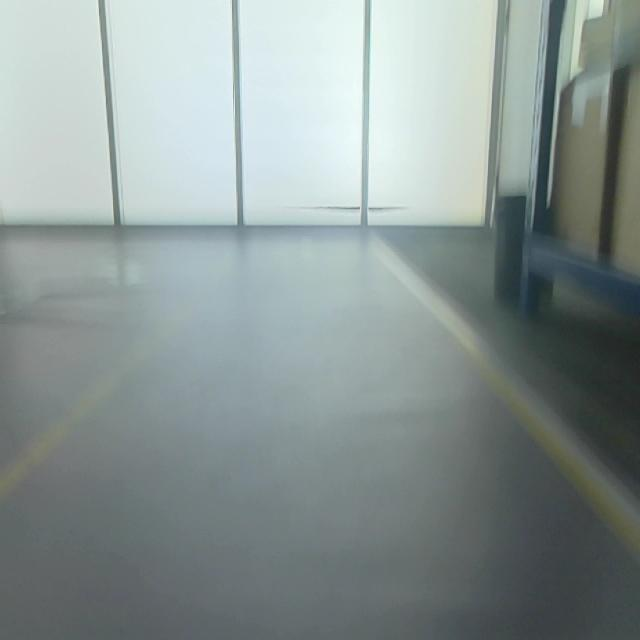left_lane: (0, 299, 183, 504)
right_lane: (378, 249, 640, 558)
